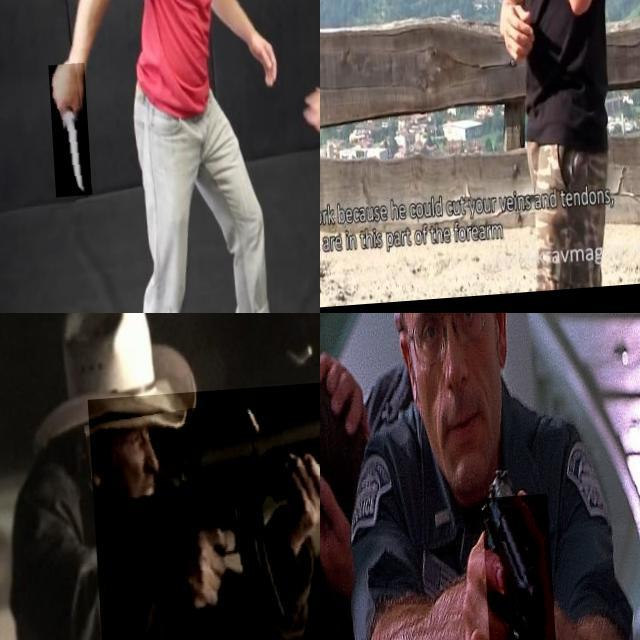-: (44, 64, 86, 199), (320, 193, 361, 304)
gun-knife-thesis - v11 Yolov5 augmented: (83, 379, 320, 640), (475, 498, 548, 640)
